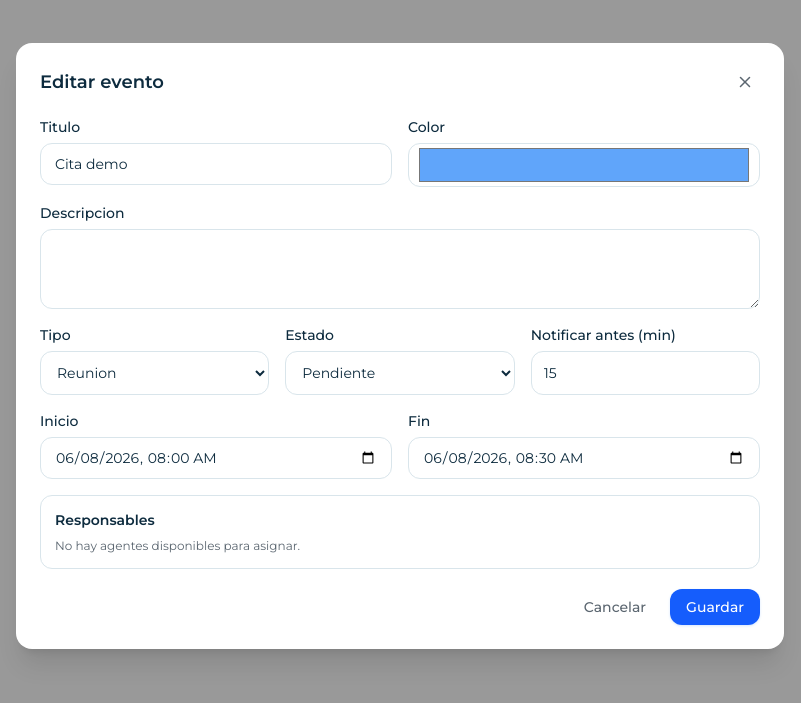
AgendaEventModal › shows session expired message when api returns unauthorized
Click the button "Guardar": (715, 607) x1=670 y1=589 x2=760 y2=625
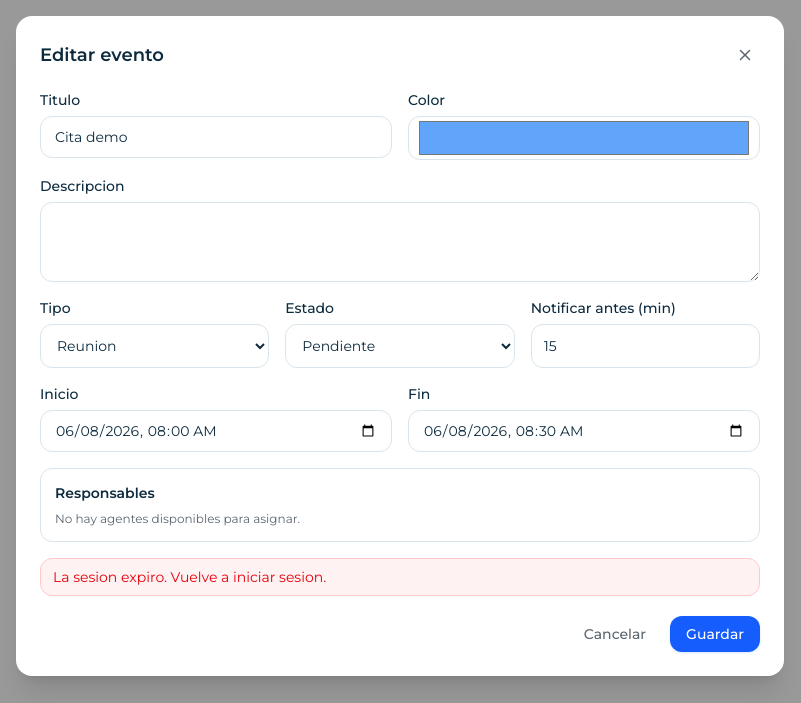
Expected: the text "La sesion expiro. Vuelve a iniciar sesion." is shown, x1=40 y1=558 x2=760 y2=596
